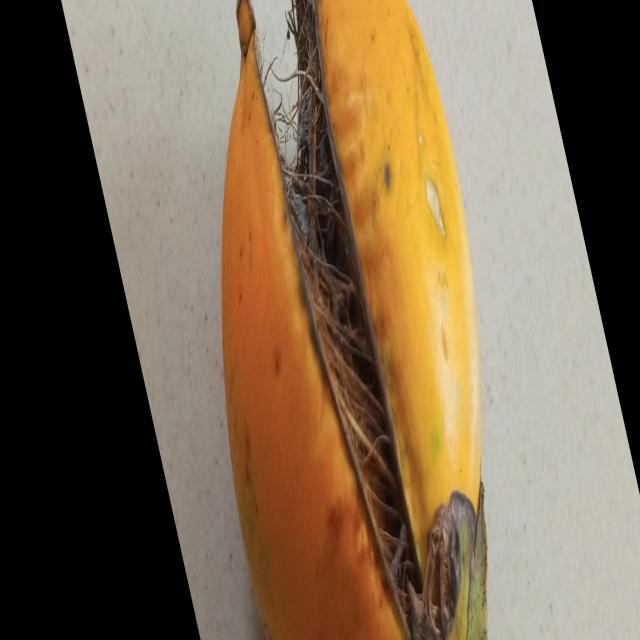damaged: (222, 0, 487, 640)
